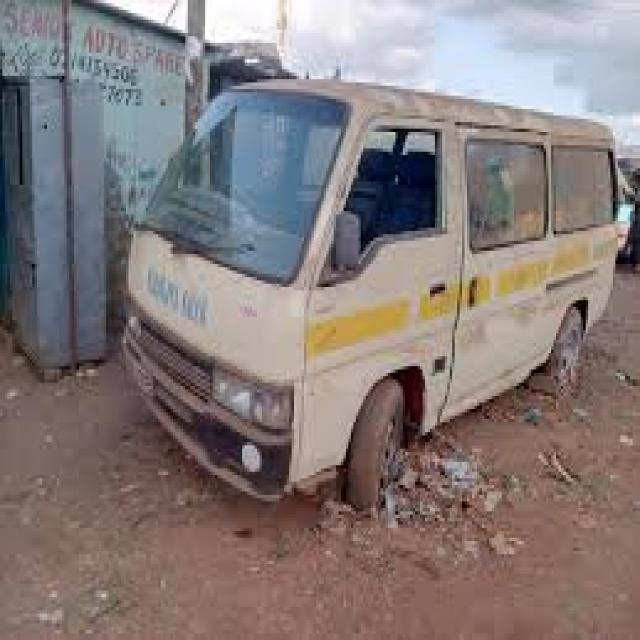matatu: (110, 34, 640, 566)
